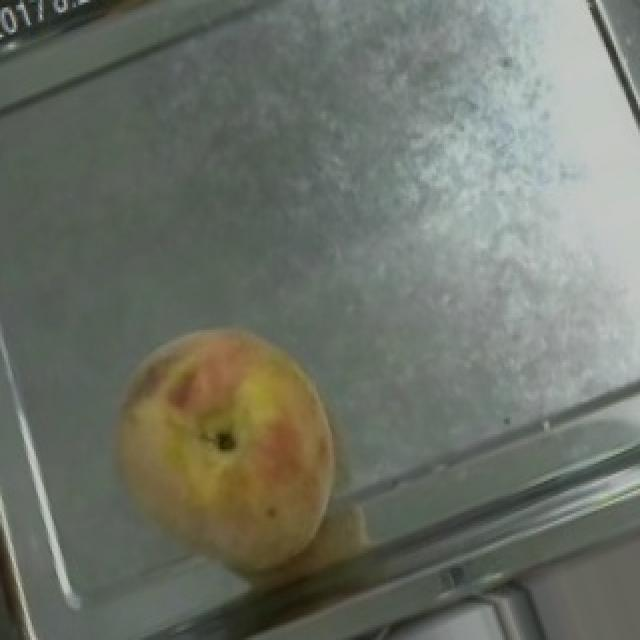Fruit: (72, 290, 388, 610), (494, 496, 640, 640)
